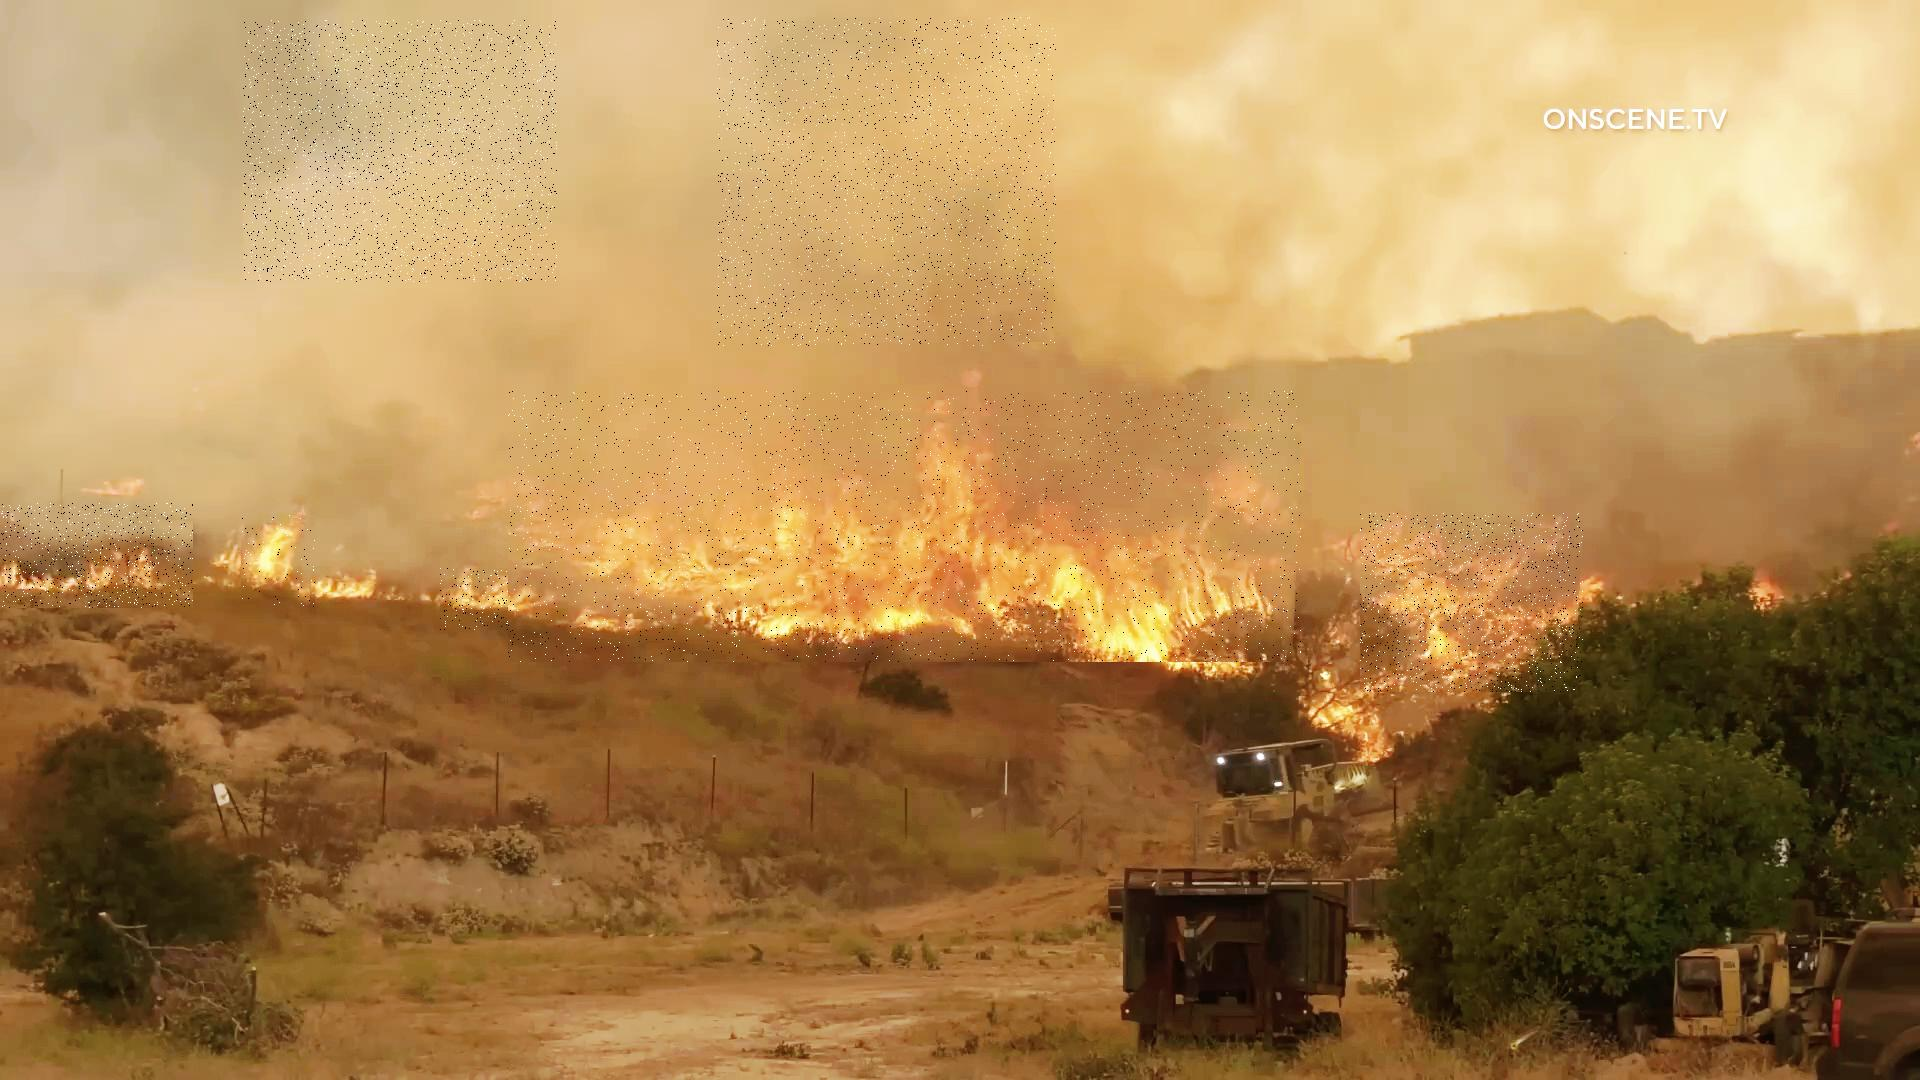fire: (508, 392, 1302, 662), (1360, 513, 1584, 692), (0, 504, 193, 608), (241, 516, 315, 608), (440, 568, 547, 630)
smoke: (717, 18, 1058, 347), (243, 21, 556, 284)
